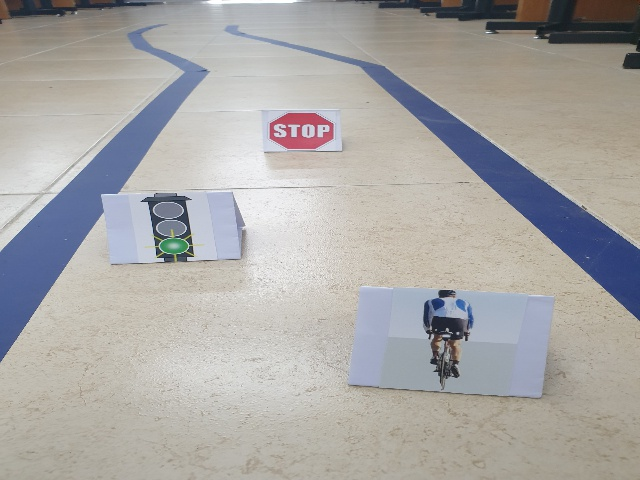Cyclist: (409, 289, 485, 395)
Green Light: (134, 189, 210, 263)
Stop: (267, 109, 339, 152)
